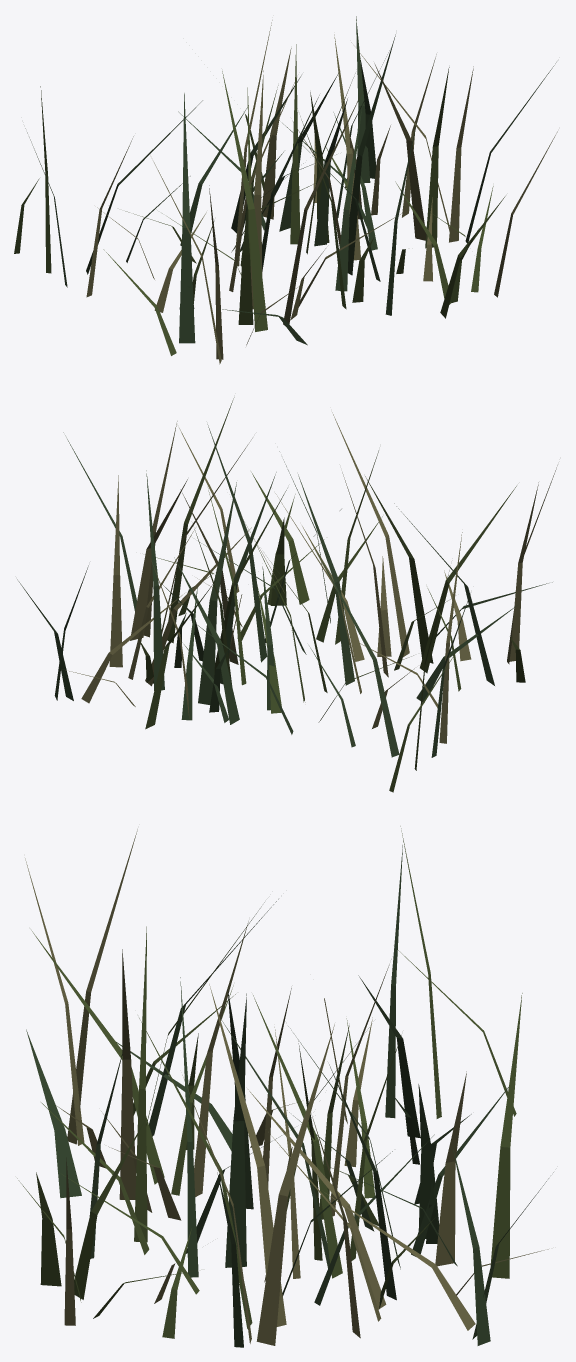
File: grass-clump.glb
3 renders of one model, top to bottom at view 1: azimuth 30°, elevation 25°; view 2: azimuth 150°, elevation 25°; view 3: azimuth 270°, elevation 25°, orthographic. The views are drawn at different scales.
Parts seen in each view (by area): view 1: Bent grass blades; view 2: Bent grass blades; view 3: Bent grass blades.
Boxes of the visible parts, x1,y1,x2,y2 form: Bent grass blades: (14, 16, 557, 364); Bent grass blades: (17, 397, 557, 792); Bent grass blades: (17, 826, 553, 1347).
Size of the model in its own units: 0.7826 by 0.3576 by 0.5726.
